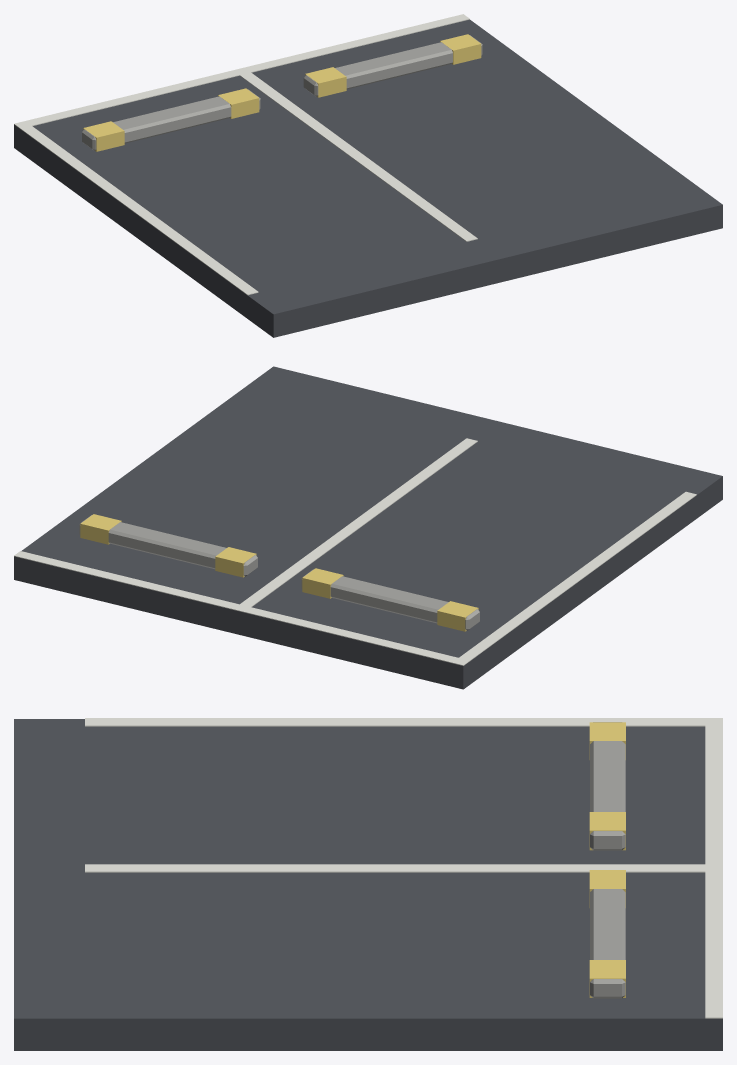
The model's file is Mart_Lot_Stalls_Wheelstop_4m.fbx.
3 renders of one model, top to bottom at view 1: azimuth 30°, elevation 25°; view 2: azimuth 150°, elevation 25°; view 3: azimuth 270°, elevation 25°, orthographic. The views are drawn at different scales.
Visible parts, largest first — view 1: Mart_Lot_Stalls_Wheelstop_4m; view 2: Mart_Lot_Stalls_Wheelstop_4m; view 3: Mart_Lot_Stalls_Wheelstop_4m.
Boxes of the visible parts, x1,y1,x2,y2 form: Mart_Lot_Stalls_Wheelstop_4m: [14, 14, 722, 337]; Mart_Lot_Stalls_Wheelstop_4m: [14, 366, 722, 689]; Mart_Lot_Stalls_Wheelstop_4m: [14, 718, 722, 1050].
Bounding box in the file's own units: 4 × 0.3205 × 4.
1 material, 1 textured.
